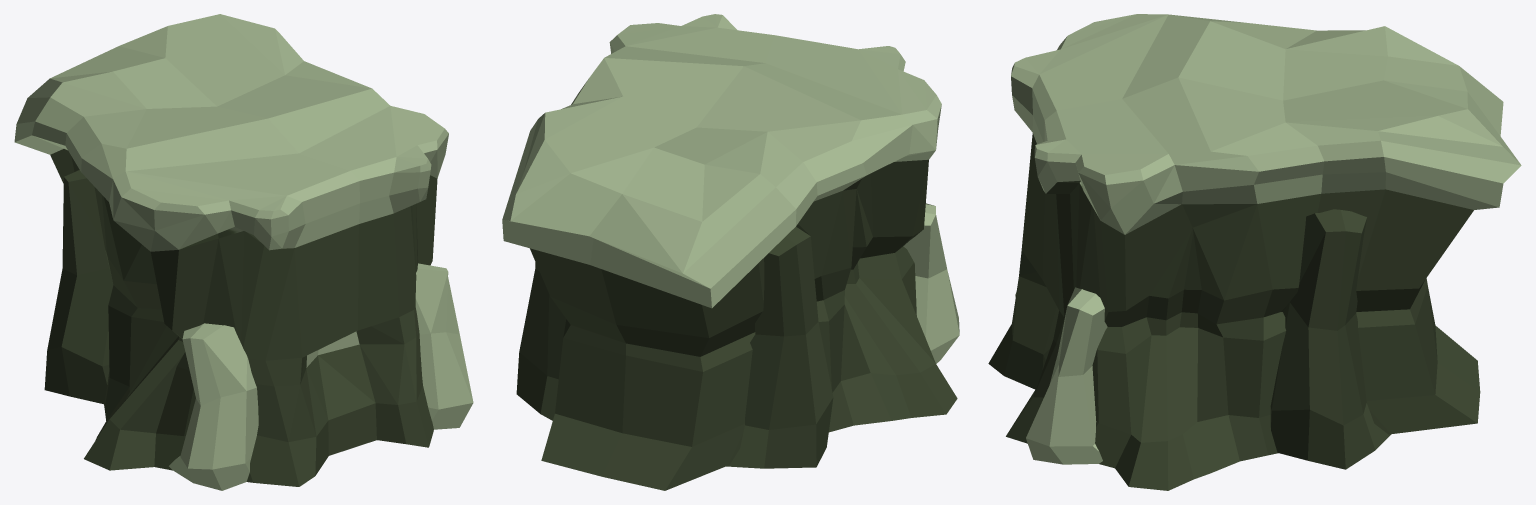
The model's file is EA_Swamp_Island_Small_05e.glb.
3 views of the same model, side by side, from view 1: azimuth 30°, elevation 25°; view 2: azimuth 150°, elevation 25°; view 3: azimuth 270°, elevation 25° (orthographic). The views are drawn at different scales.
Parts seen in each view (by area): view 1: EA_Swamp_Island_Small_05e; view 2: EA_Swamp_Island_Small_05e; view 3: EA_Swamp_Island_Small_05e.
Part boxes in pixels (<box>): EA_Swamp_Island_Small_05e: <box>14,14,473,490</box>; EA_Swamp_Island_Small_05e: <box>502,14,959,490</box>; EA_Swamp_Island_Small_05e: <box>988,14,1521,490</box>.
Bounding box in the file's own units: 12.36 × 9.26 × 14.08.
1 material, 1 textured.
